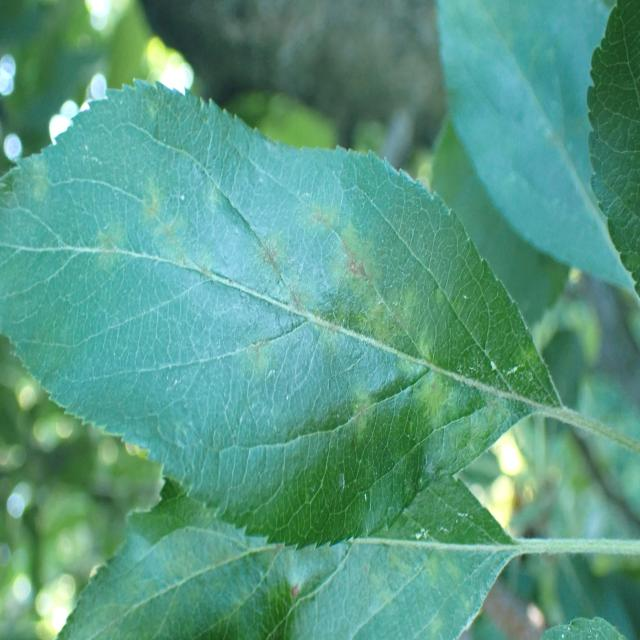scab: (13, 118, 500, 484)
